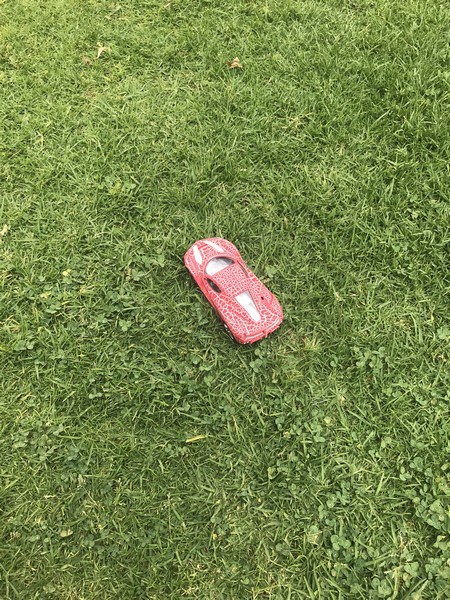RC: (182, 235, 287, 346)
